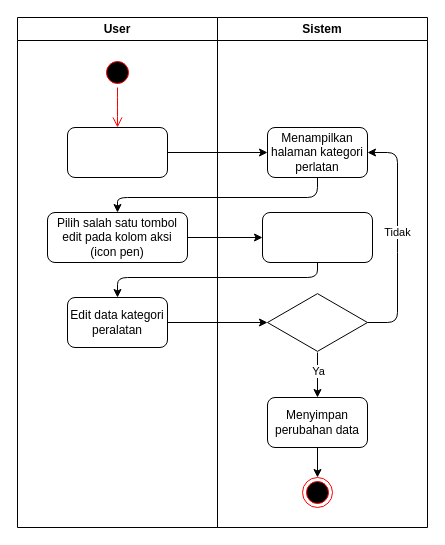
This 445x545 diagram has some shape labels left out. Each missing label, with the centre of its shape:
Menampilkan halaman edit data kategori peralatan: the point at 317,237
Pilih fitur kategori peralatan: the point at 117,152
Validasi data: the point at 317,322
